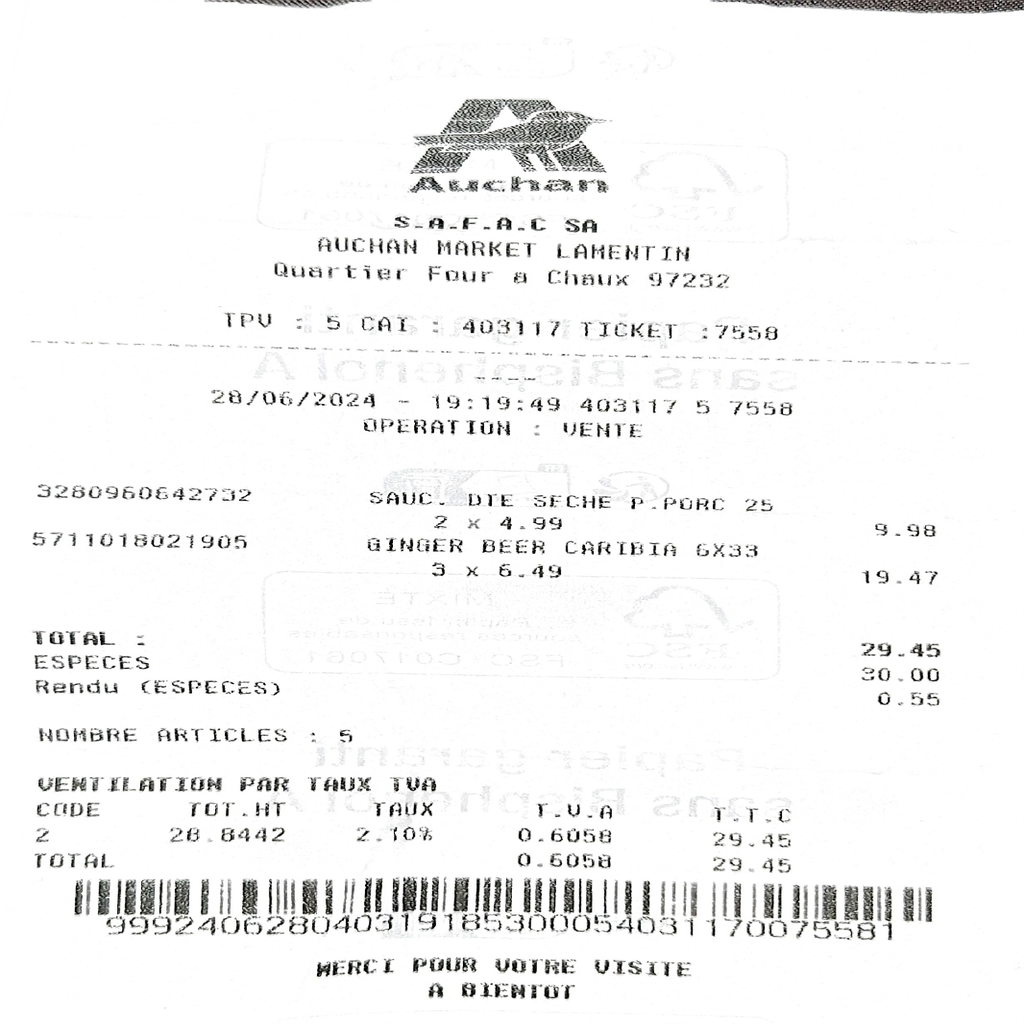recipt: (2, 2, 1022, 1018)
